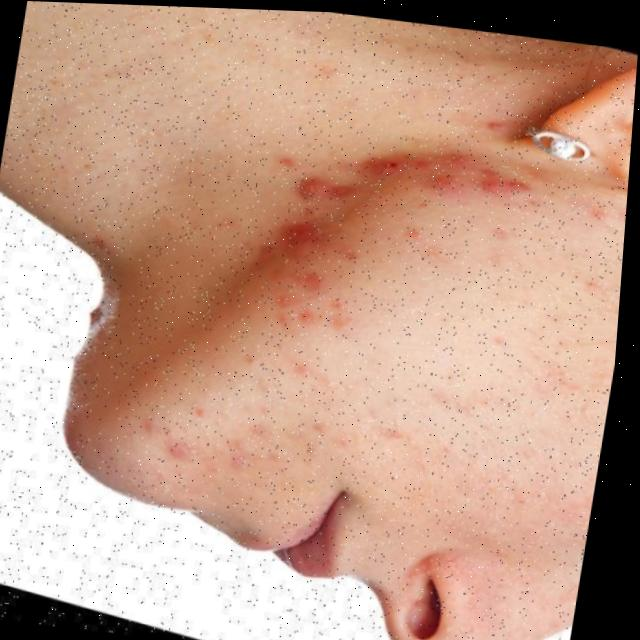Acne: (126, 154, 508, 457)
